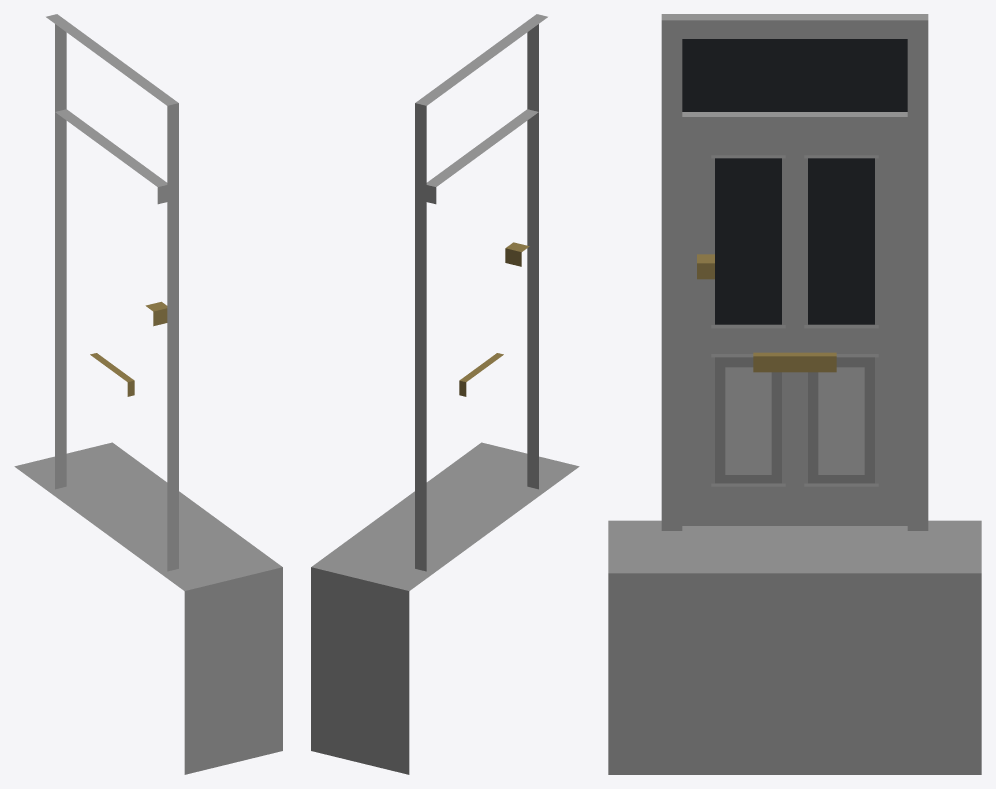
Rendered from SM_Prop_door_victorian_1.glb.
The picture shows the model from 3 angles, left to right: view 1: azimuth 30°, elevation 25°; view 2: azimuth 150°, elevation 25°; view 3: azimuth 270°, elevation 25°; orthographic projection. The views are drawn at different scales.
Parts seen in each view (by area): view 1: SM_Prop_door_victorian_1; view 2: SM_Prop_door_victorian_1; view 3: SM_Prop_door_victorian_1.
Boxes of the visible parts, x1,y1,x2,y2 form: SM_Prop_door_victorian_1: [14, 14, 282, 774]; SM_Prop_door_victorian_1: [311, 14, 579, 774]; SM_Prop_door_victorian_1: [608, 14, 981, 774].
Size of the model in its own units: 0.42 by 2.65 by 1.26.
